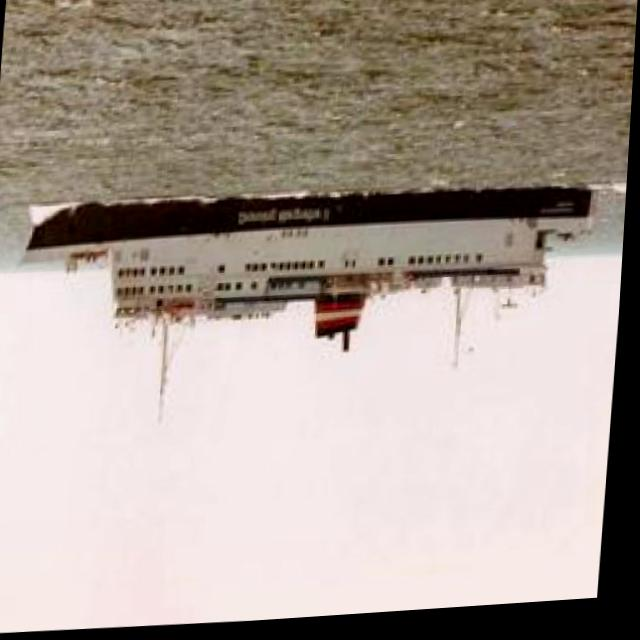ship2: (23, 193, 597, 427)
